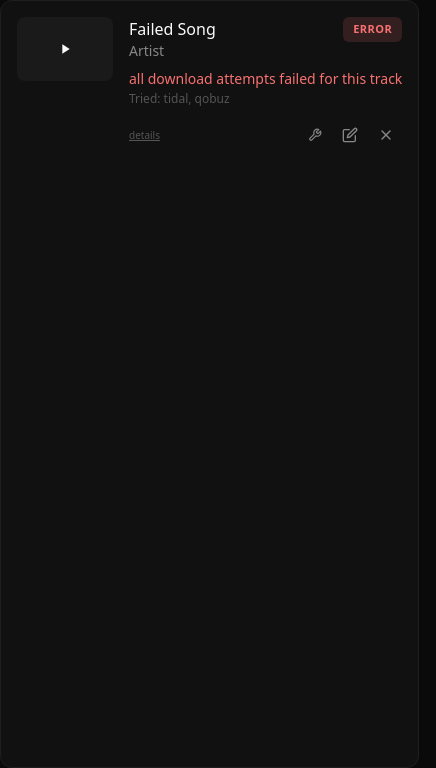
Test: QueueItem › shows source select and Retry button after clicking Fix
Click the button titled "Fix: retry with source" at x=315, y=135, box 300,120 -> 330,150
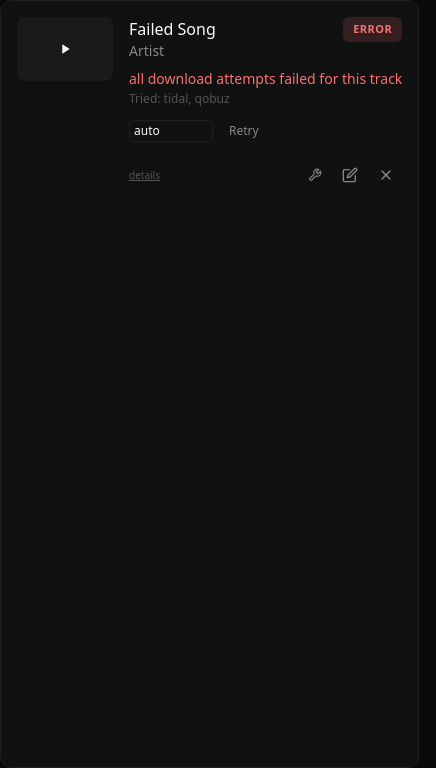
Expected: the dropdown is shown, 129,120 -> 213,142
Expected: the button "Retry" is shown, 221,115 -> 267,147
